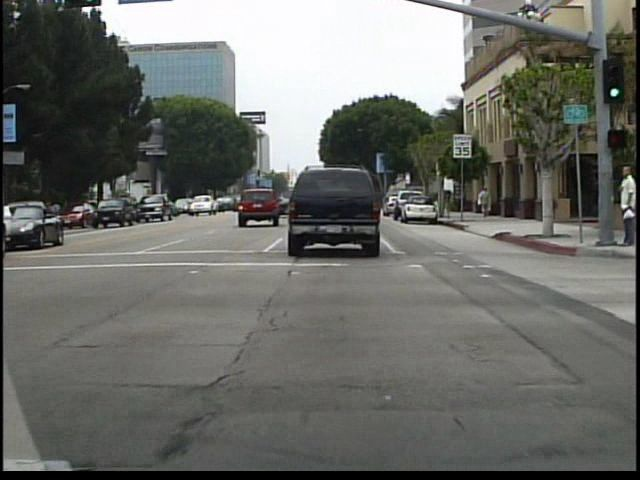person: (611, 161, 630, 250), (473, 180, 491, 221), (431, 185, 446, 219)
